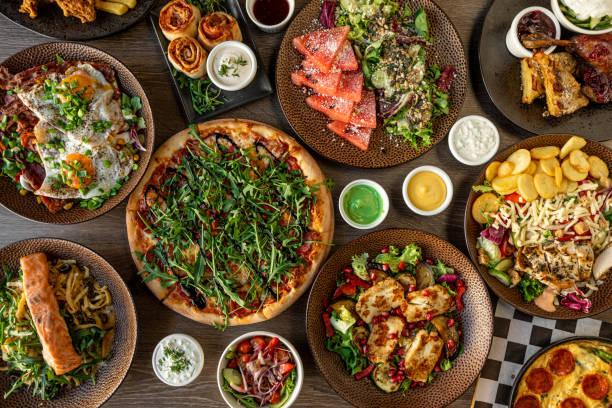Braised Crucian Carp: (123, 119, 336, 326), (305, 228, 494, 408), (272, 1, 455, 171), (0, 42, 157, 228), (462, 136, 609, 318), (0, 233, 141, 408), (475, 0, 611, 142), (145, 0, 272, 126)
